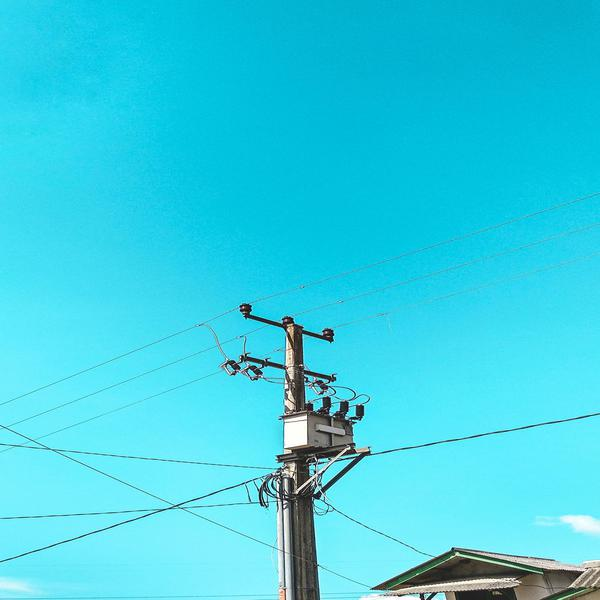utility_pole: (210, 292, 378, 525)
